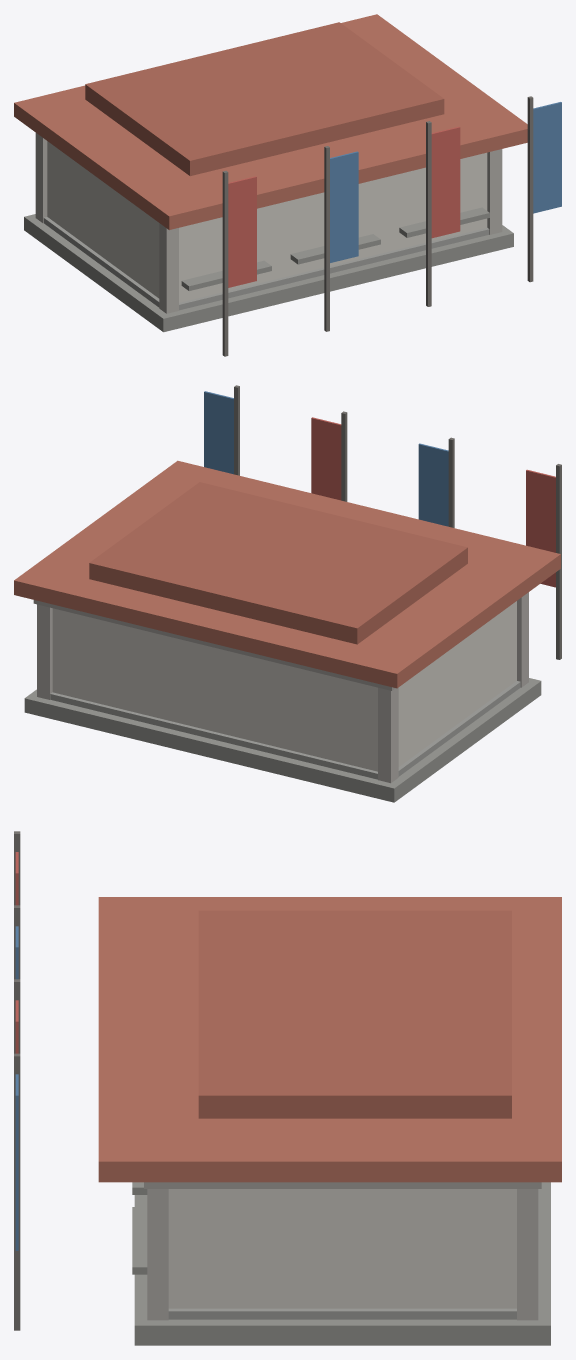
3 views of the same model, one above another, from view 1: azimuth 30°, elevation 25°; view 2: azimuth 150°, elevation 25°; view 3: azimuth 270°, elevation 25° (orthographic). The views are drawn at different scales.
Parts seen in each view (by area): view 1: Visual; view 2: Visual; view 3: Visual.
Part boxes in pixels (x1,y1,x2,y2): Visual: [14, 14, 561, 356]; Visual: [14, 385, 561, 802]; Visual: [14, 831, 561, 1345].
Size of the model in its own units: 36.18 by 17.4 by 31.5.
